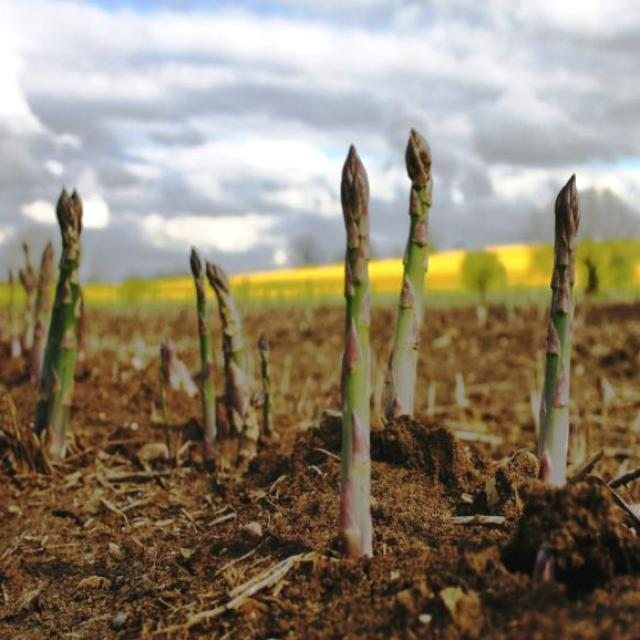aspargus: (340, 148, 374, 562), (33, 191, 84, 460), (537, 176, 580, 490), (393, 130, 433, 415)
